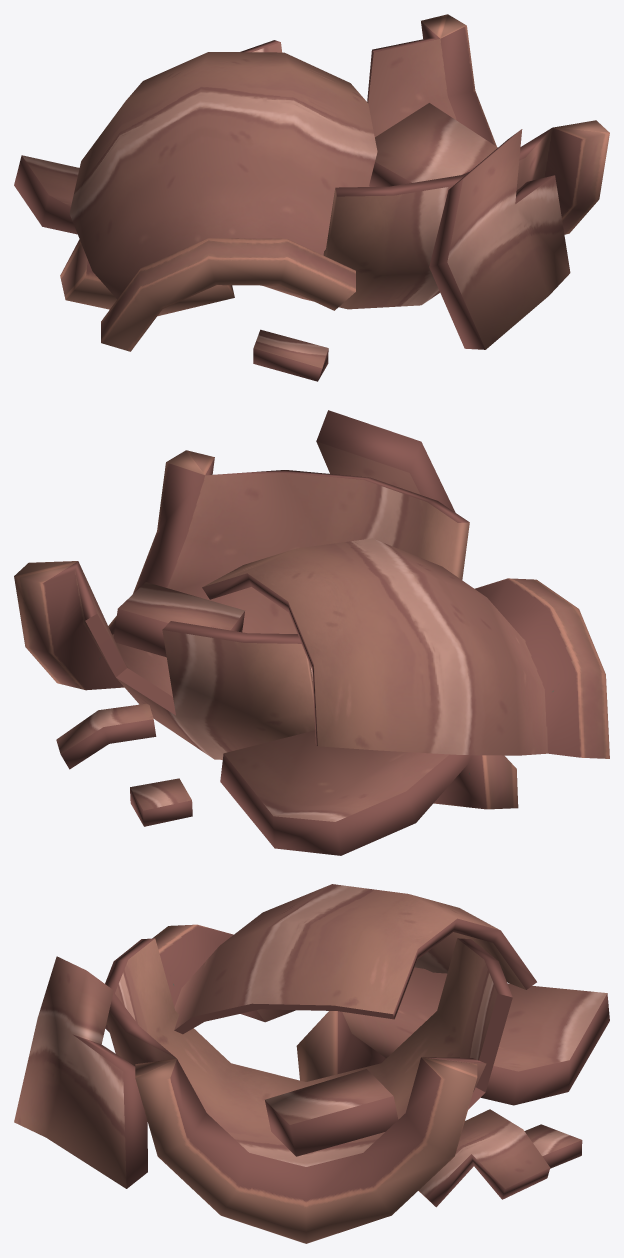
The model's file is dungeon_vase_broken.fbx.
The picture shows the model from 3 angles, top to bottom: view 1: azimuth 30°, elevation 25°; view 2: azimuth 150°, elevation 25°; view 3: azimuth 270°, elevation 25°; orthographic projection. The views are drawn at different scales.
Parts seen in each view (by area): view 1: Object161_Mesh.002; view 2: Object161_Mesh.002; view 3: Object161_Mesh.002.
Boxes of the visible parts, bbox=[...] form: Object161_Mesh.002: bbox=[14, 14, 609, 381]; Object161_Mesh.002: bbox=[14, 410, 609, 855]; Object161_Mesh.002: bbox=[14, 884, 609, 1243].
Bounding box in the file's own units: 62.66 × 30.2 × 67.14.
